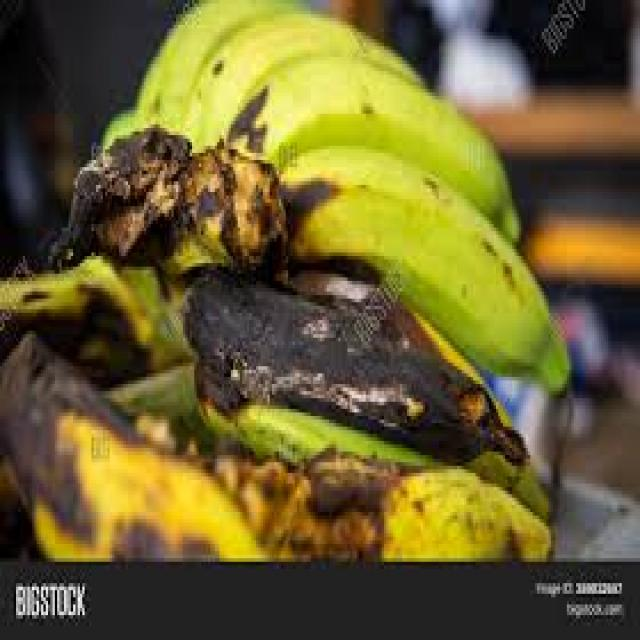organic waste: (268, 142, 569, 391), (0, 327, 286, 555), (192, 345, 549, 519), (212, 54, 519, 238), (176, 270, 510, 423), (167, 444, 551, 562), (39, 121, 283, 277), (178, 10, 423, 156), (128, 0, 327, 135), (0, 242, 181, 362), (96, 356, 213, 470), (91, 0, 132, 135)
